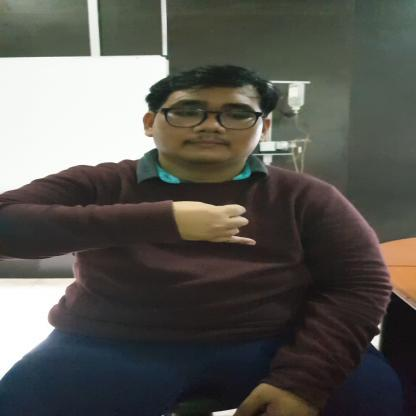J: (172, 200, 258, 247)
